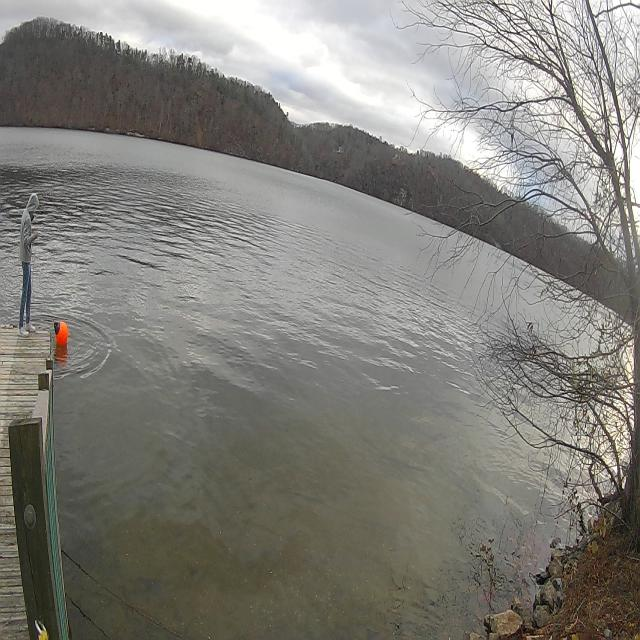Buoy: (53, 316, 70, 345)
